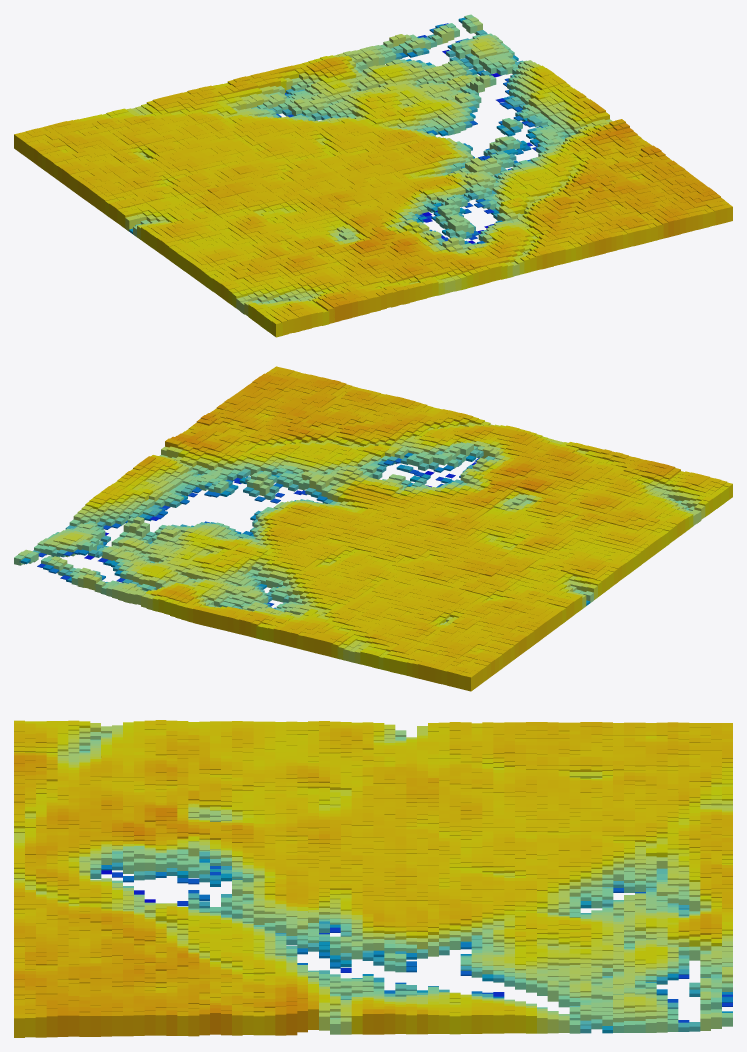
File: population.glb
3 views of the same model, one above another, from view 1: azimuth 30°, elevation 25°; view 2: azimuth 150°, elevation 25°; view 3: azimuth 270°, elevation 25° (orthographic). The views are drawn at different scales.
Visible parts, largest first — view 1: population; view 2: population; view 3: population.
Part boxes in pixels (box(x1,y1,x2,y2)): population: box(14, 14, 732, 337); population: box(14, 366, 732, 691); population: box(14, 720, 732, 1037).
Bounding box in the file's own units: 6643 × 456 × 6594.
